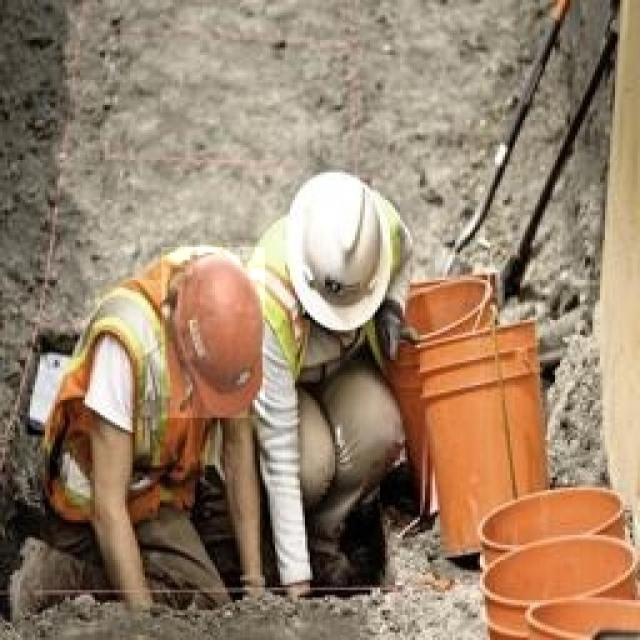Helmet: (161, 247, 265, 418)
